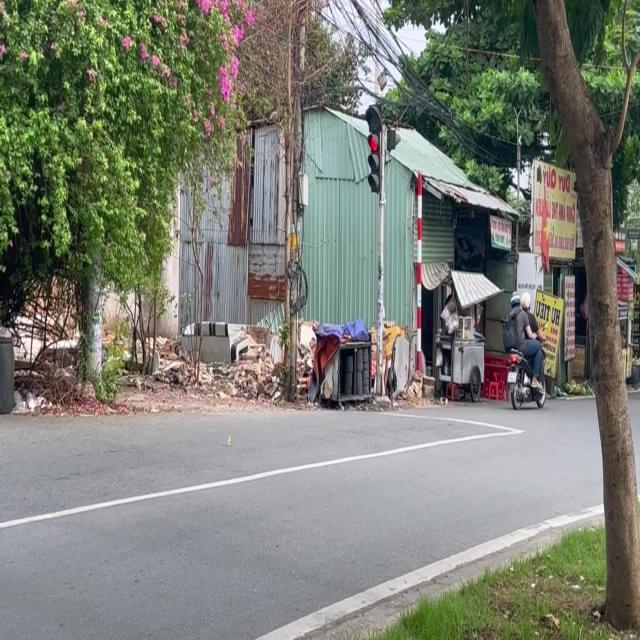red_light: (363, 103, 380, 190)
